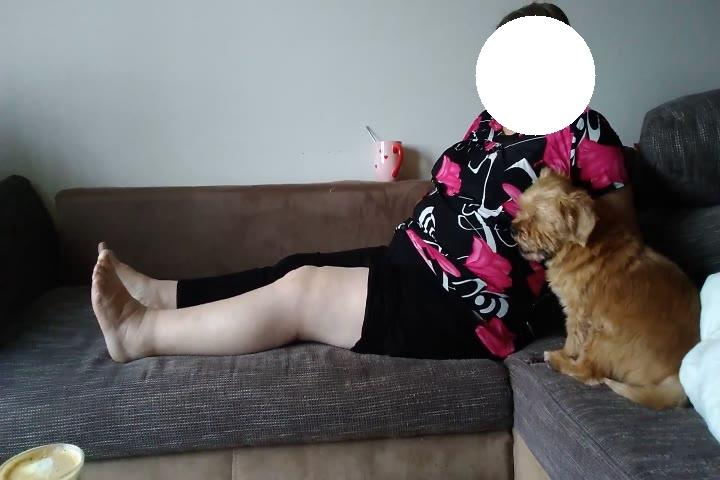lower_body: (87, 231, 514, 372)
